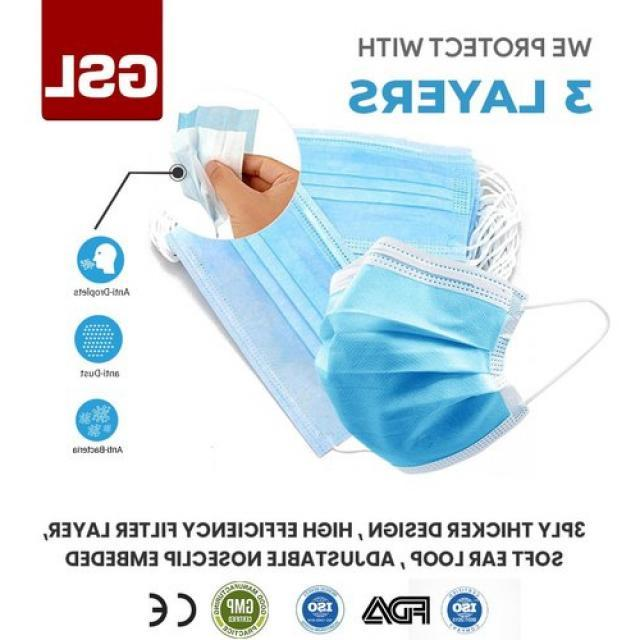face mask: (304, 243, 618, 476)
